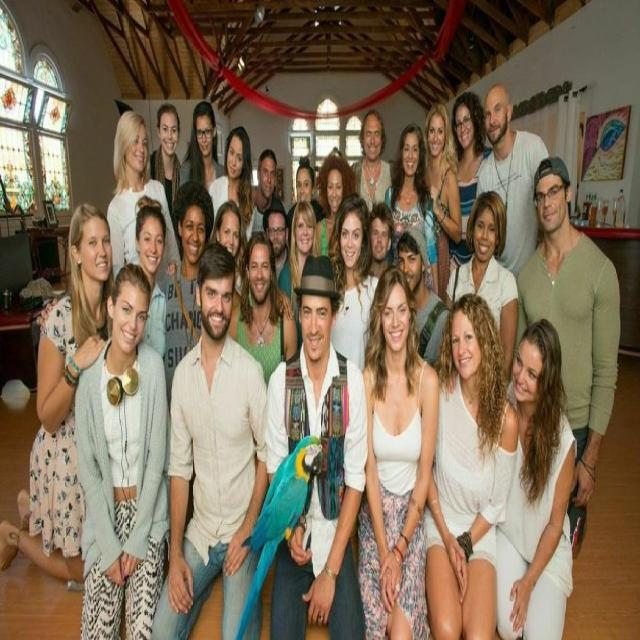body: (148, 239, 272, 639), (0, 202, 115, 584), (262, 250, 371, 639), (517, 156, 620, 551), (72, 259, 176, 639), (420, 287, 520, 639), (353, 263, 439, 640), (494, 313, 578, 639), (475, 81, 551, 280), (444, 190, 520, 382), (105, 109, 182, 288), (162, 180, 215, 414), (226, 229, 298, 391), (382, 120, 440, 298), (328, 191, 380, 373), (446, 89, 494, 270), (396, 226, 452, 380), (422, 100, 463, 304), (276, 200, 321, 350), (207, 197, 251, 342), (207, 125, 256, 243), (149, 100, 184, 264), (310, 150, 360, 264), (134, 194, 168, 360), (349, 106, 398, 212), (176, 100, 228, 198), (261, 194, 294, 303), (286, 154, 327, 238), (252, 148, 288, 233), (362, 199, 394, 280), (326, 142, 346, 156)
